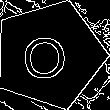O_N: (26, 29, 73, 81)
